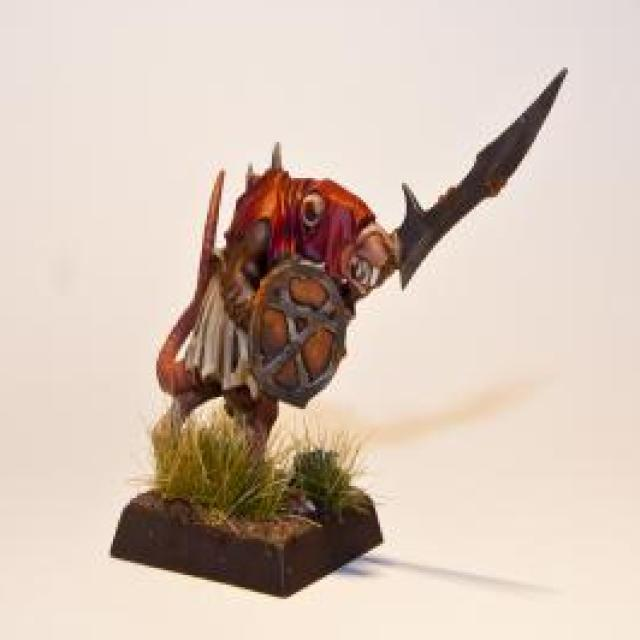knife: (373, 62, 570, 300)
